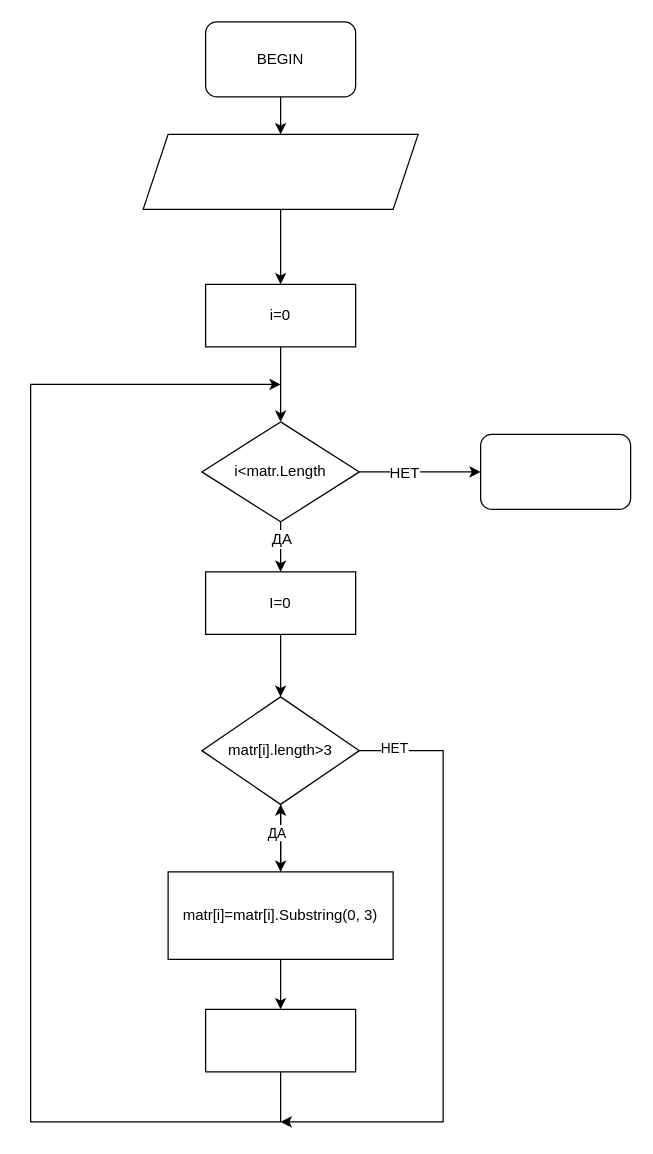
Image size: 653x1154. Some labels were removed from this diagram. The shapes that lost their labels are listed below. From the top down, each one's centre as x and y in pixels, then its label:
At (280,171): "Вводим одномерный строчный массив matr".
At (555,471): "END".
At (280,1040): "I=i+1".
